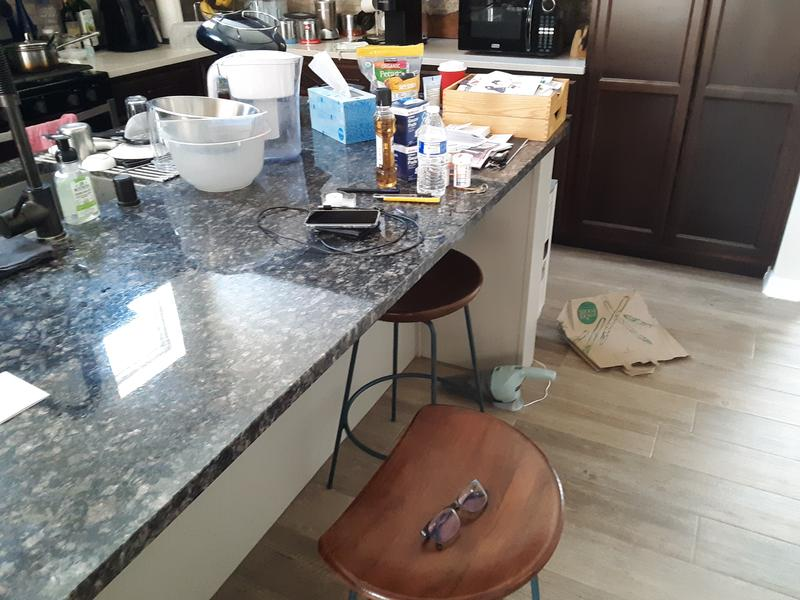glasses: (420, 477, 491, 552)
